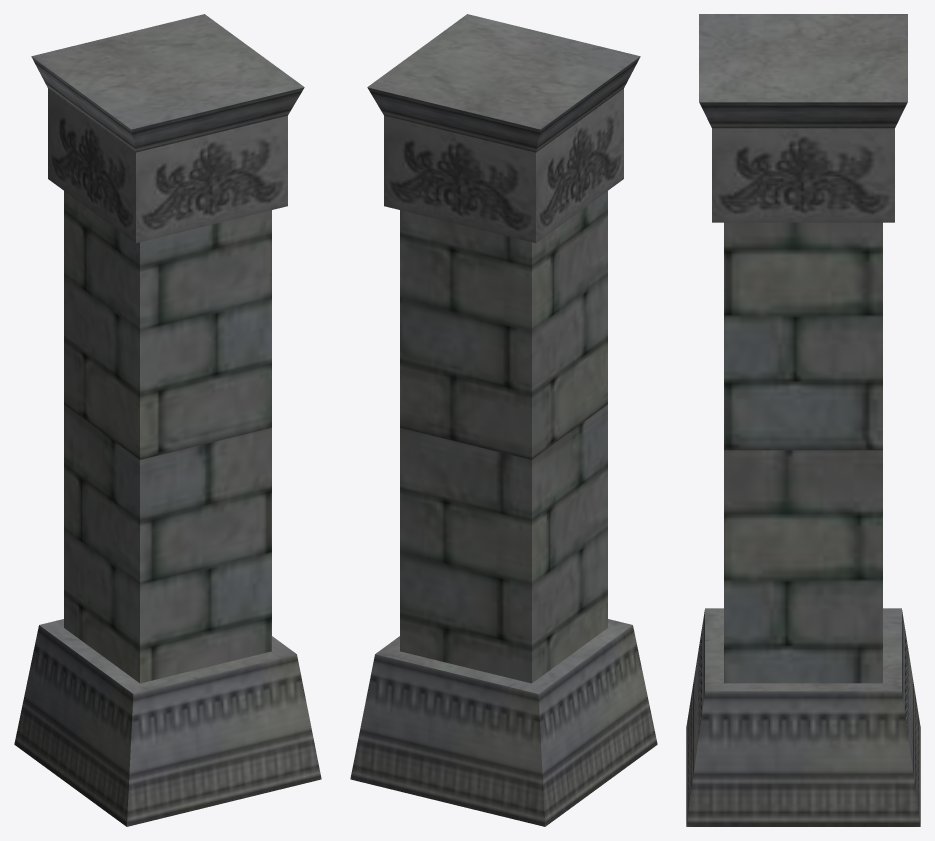
Rendered from sd_pillar_02.glb.
The picture shows the model from 3 angles, left to right: view 1: azimuth 30°, elevation 25°; view 2: azimuth 150°, elevation 25°; view 3: azimuth 270°, elevation 25°; orthographic projection. The views are drawn at different scales.
Parts seen in each view (by area): view 1: pillar_02; view 2: pillar_02; view 3: pillar_02.
Boxes of the visible parts, x1,y1,x2,y2 form: pillar_02: (14, 14, 321, 826); pillar_02: (350, 14, 657, 826); pillar_02: (686, 14, 920, 826).
Bounding box in the file's own units: 0.8863 × 3 × 0.8863.
1 material, 1 textured.
